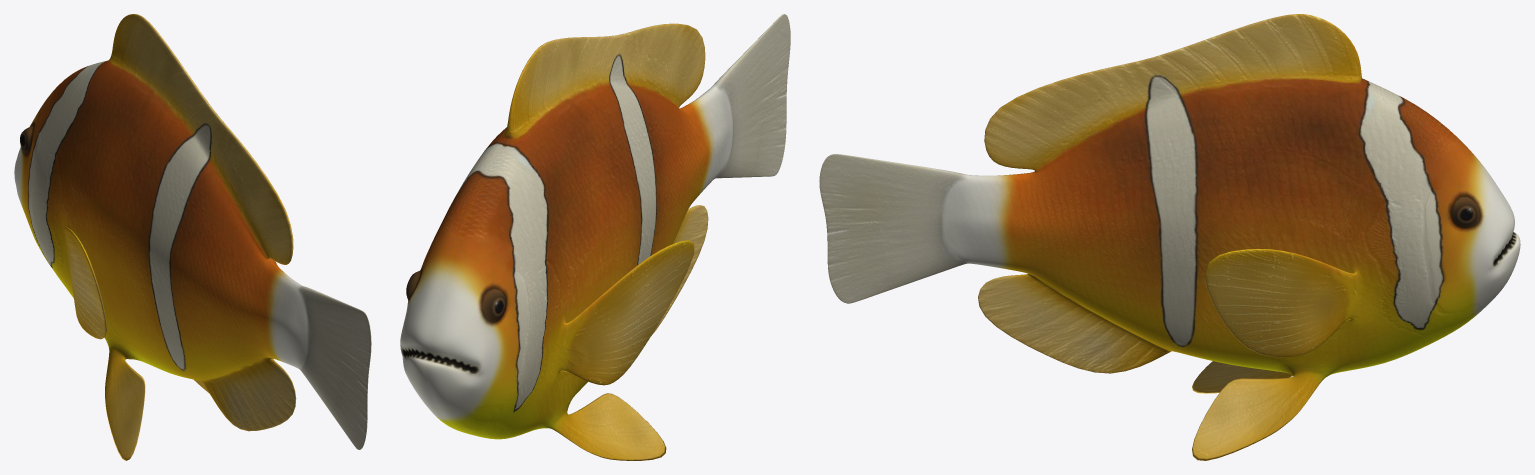
The model's file is fish1.glb.
The picture shows the model from 3 angles, left to right: view 1: azimuth 30°, elevation 25°; view 2: azimuth 150°, elevation 25°; view 3: azimuth 270°, elevation 25°; orthographic projection. The views are drawn at different scales.
Parts seen in each view (by area): view 1: 12265_Fish; view 2: 12265_Fish; view 3: 12265_Fish.
Part boxes in pixels (left/top/right/bottom): 12265_Fish: left=14, top=14, right=371, bottom=460; 12265_Fish: left=400, top=14, right=790, bottom=460; 12265_Fish: left=819, top=14, right=1520, bottom=460.
Size of the model in its own units: 16.12 by 31.06 by 47.75.
Materials: 1 (1 with a texture image).
